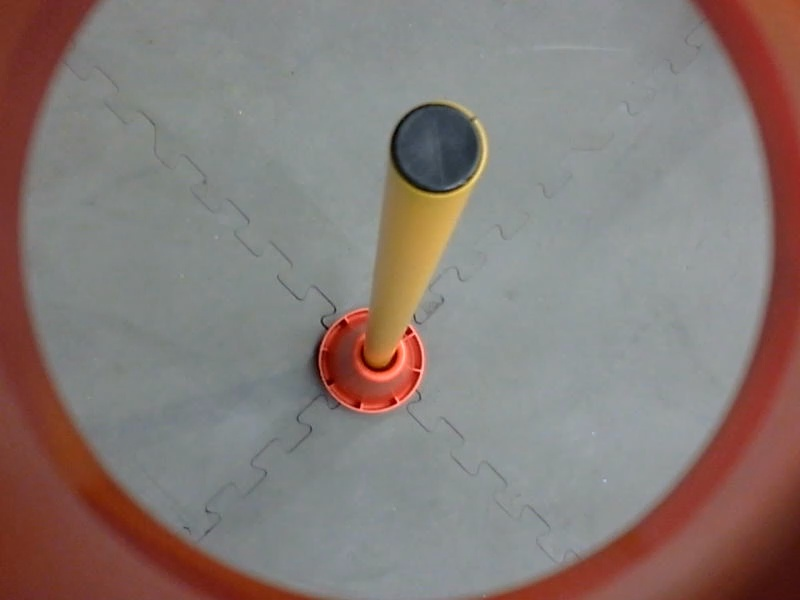tip: (373, 94, 497, 211)
